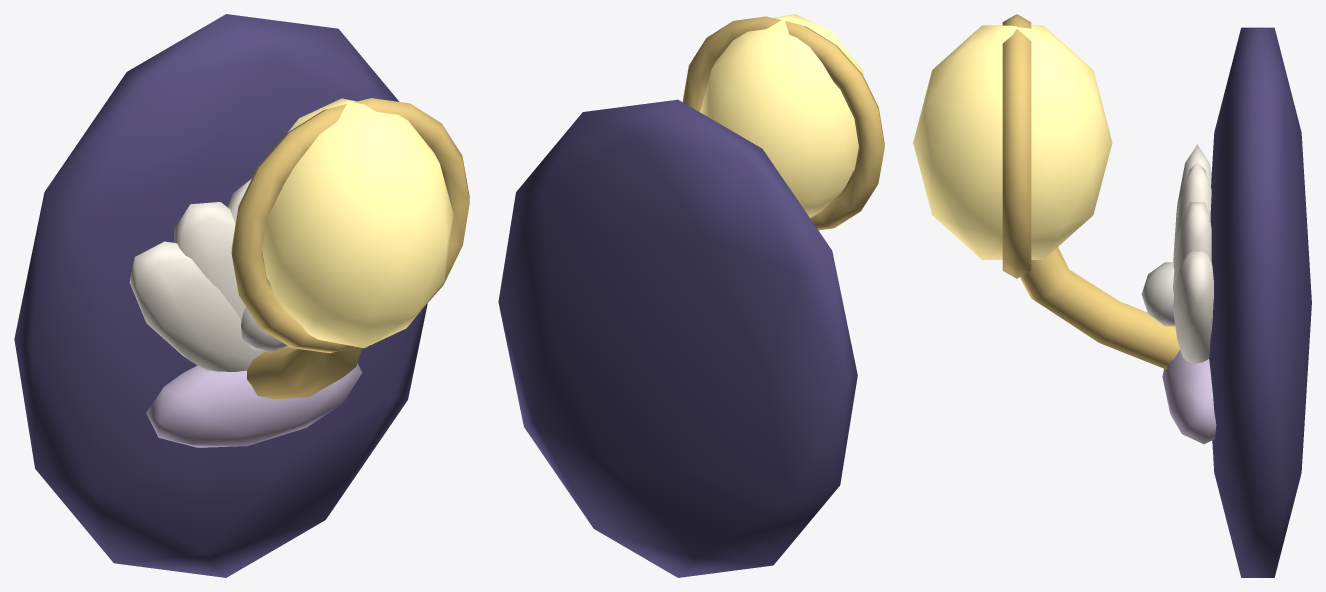
The model's file is pearl_shell_sconce.glb.
3 renders of one model, left to right at view 1: azimuth 30°, elevation 25°; view 2: azimuth 150°, elevation 25°; view 3: azimuth 270°, elevation 25°, orthographic. The views are drawn at different scales.
Parts seen in each view (by area): view 1: pearl_shell_sconce.001; view 2: pearl_shell_sconce.001; view 3: pearl_shell_sconce.001.
Boxes of the visible parts, bbox=[...] form: pearl_shell_sconce.001: bbox=[14, 14, 469, 577]; pearl_shell_sconce.001: bbox=[498, 14, 884, 577]; pearl_shell_sconce.001: bbox=[913, 14, 1311, 577].
Bounding box in the file's own units: 2.19 × 2.92 × 1.92.
